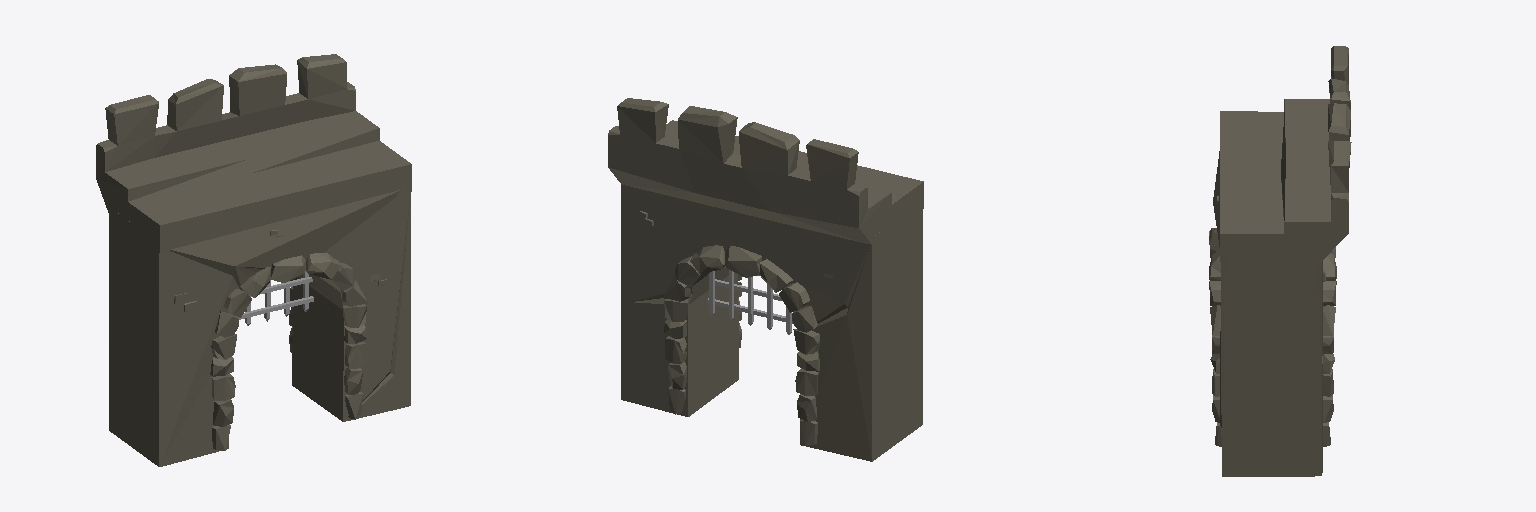
File: castlegate_west.obj
3 views of the same model, side by side, from view 1: azimuth 30°, elevation 25°; view 2: azimuth 150°, elevation 25°; view 3: azimuth 270°, elevation 25° (orthographic).
Visible parts, largest first — view 1: Castle-gate.003_Untitled.153, castle-wall-top-half.008_Untitled.152, Castle-lattice-small.001_Untitled.154; view 2: Castle-gate.003_Untitled.153, castle-wall-top-half.008_Untitled.152, Castle-lattice-small.001_Untitled.154; view 3: Castle-gate.003_Untitled.153, castle-wall-top-half.008_Untitled.152.
Boxes of the visible parts, <box> form: Castle-gate.003_Untitled.153: <box>109,189,410,466</box>; castle-wall-top-half.008_Untitled.152: <box>96,54,411,252</box>; Castle-lattice-small.001_Untitled.154: <box>238,271,313,325</box>; Castle-gate.003_Untitled.153: <box>621,184,922,461</box>; castle-wall-top-half.008_Untitled.152: <box>608,98,923,244</box>; Castle-lattice-small.001_Untitled.154: <box>707,266,792,334</box>; Castle-gate.003_Untitled.153: <box>1209,151,1336,476</box>; castle-wall-top-half.008_Untitled.152: <box>1220,46,1351,261</box>.
Size of the model in its own units: 1.84 by 2.23 by 0.9051.